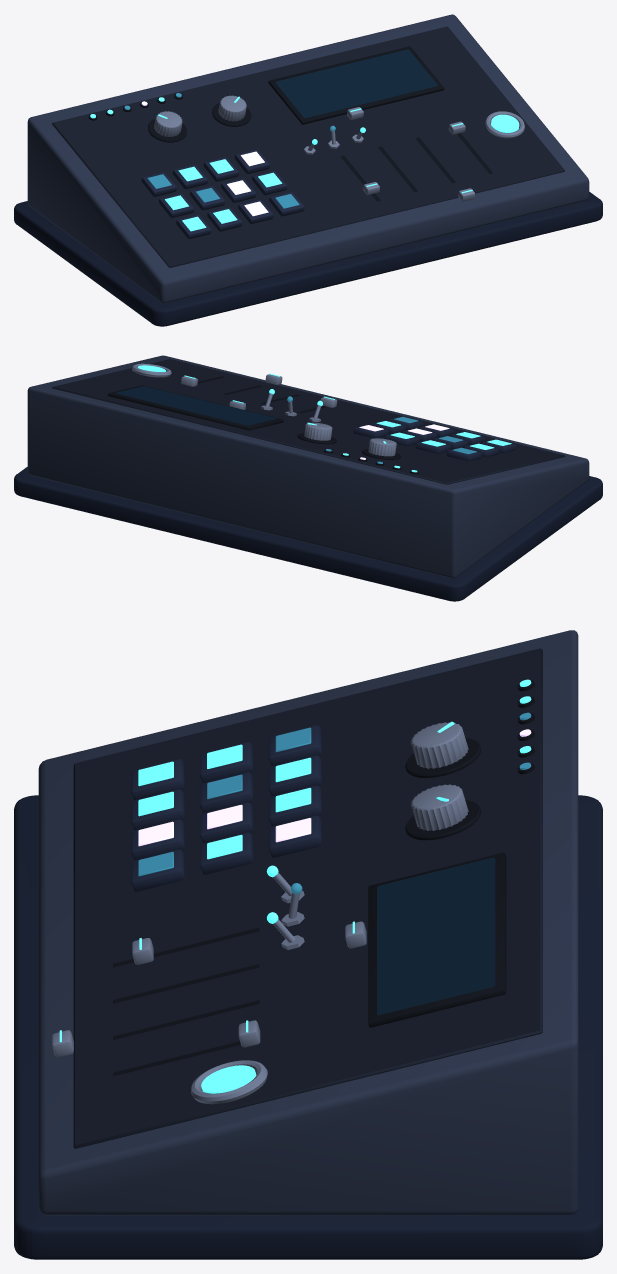
File: panel.glb
3 views of the same model, one above another, from view 1: azimuth 30°, elevation 25°; view 2: azimuth 150°, elevation 25°; view 3: azimuth 270°, elevation 25° (orthographic). The views are drawn at different scales.
Parts seen in each view (by area): view 1: panel, Screen; view 2: panel, Screen; view 3: panel, Screen.
Boxes of the visible parts, x1,y1,x2,y2 form: panel: [14, 14, 602, 326]; Screen: [275, 49, 437, 117]; panel: [14, 355, 602, 601]; Screen: [115, 386, 276, 425]; panel: [14, 630, 602, 1259]; Screen: [377, 857, 495, 1015].
Bounding box in the file's own units: 0.84 × 0.1929 × 0.4801.
